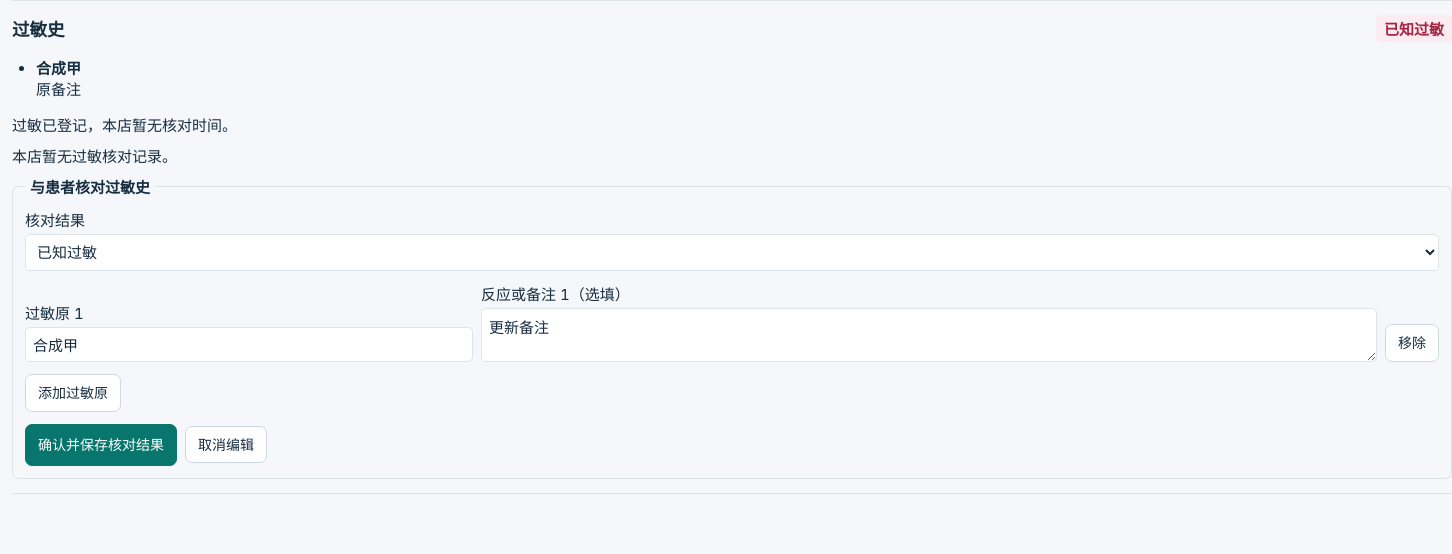
Test: a stale draft keeps its original version and offers a reload after a concurrent edit
The width and height of the screenshot is (1452, 554).
Earlier steps of the test are not shown.
Later steps or results of the test are not shown.
Click the button "确认并保存核对结果". click: (101, 445)
box: [25,424,177,466]
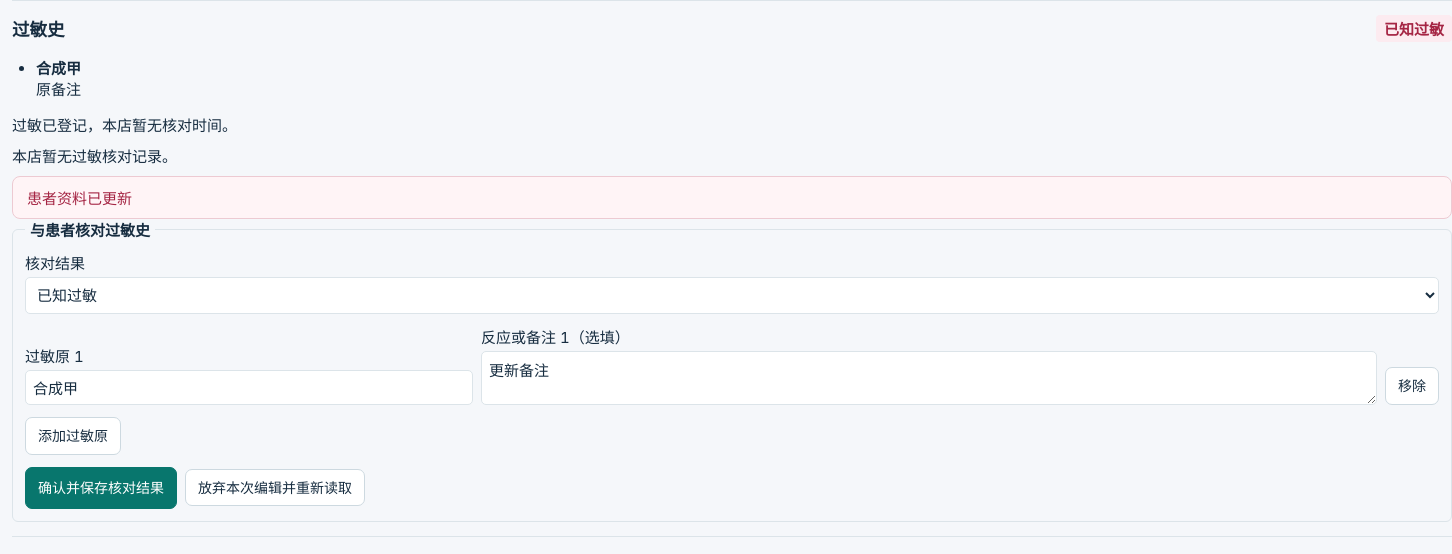
Now the message reads "患者资料已更新", box [27,189,132,208]
